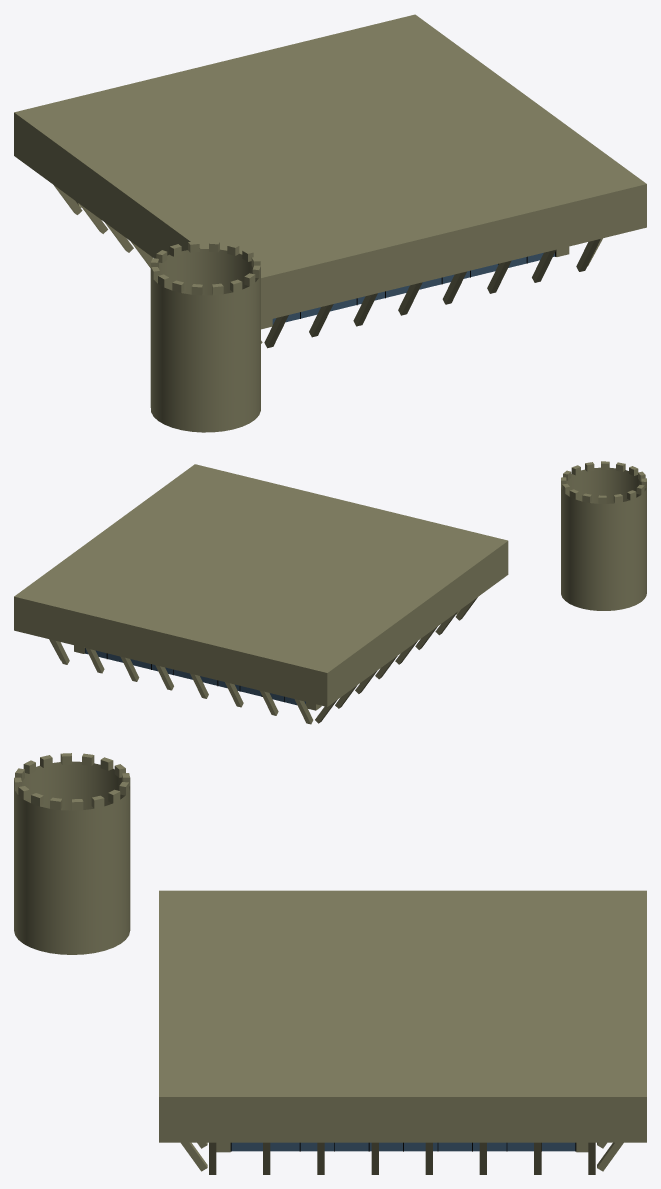
File: CCP.fbx
3 views of the same model, one above another, from view 1: azimuth 30°, elevation 25°; view 2: azimuth 150°, elevation 25°; view 3: azimuth 270°, elevation 25° (orthographic). The views are drawn at different scales.
Parts seen in each view (by area): view 1: CCP_Base_Border, CCP_Base_Tower, CCP_Base_Pillars, CCP_Base_Box, CCP_Base_Windows; view 2: CCP_Base_Border, CCP_Base_Tower, CCP_Base_Pillars, CCP_Base_Box, CCP_Base_Windows; view 3: CCP_Base_Border, CCP_Base_Tower, CCP_Base_Windows, CCP_Base_Pillars, CCP_Base_Box.
Part boxes in pixels (x1,y1,x2,y2): CCP_Base_Border: [14, 14, 646, 321]; CCP_Base_Tower: [150, 249, 260, 432]; CCP_Base_Pillars: [54, 185, 602, 348]; CCP_Base_Box: [150, 241, 260, 295]; CCP_Base_Windows: [272, 252, 554, 324]; CCP_Base_Border: [14, 464, 508, 706]; CCP_Base_Tower: [561, 467, 646, 610]; CCP_Base_Pillars: [49, 597, 477, 724]; CCP_Base_Box: [561, 461, 646, 503]; CCP_Base_Windows: [85, 648, 305, 705]; CCP_Base_Border: [159, 890, 646, 1142]; CCP_Base_Tower: [14, 761, 130, 954]; CCP_Base_Windows: [231, 1142, 575, 1151]; CCP_Base_Pillars: [181, 1142, 623, 1174]; CCP_Base_Box: [14, 753, 130, 810].
Size of the model in its own units: 8134 by 2331 by 7986.
